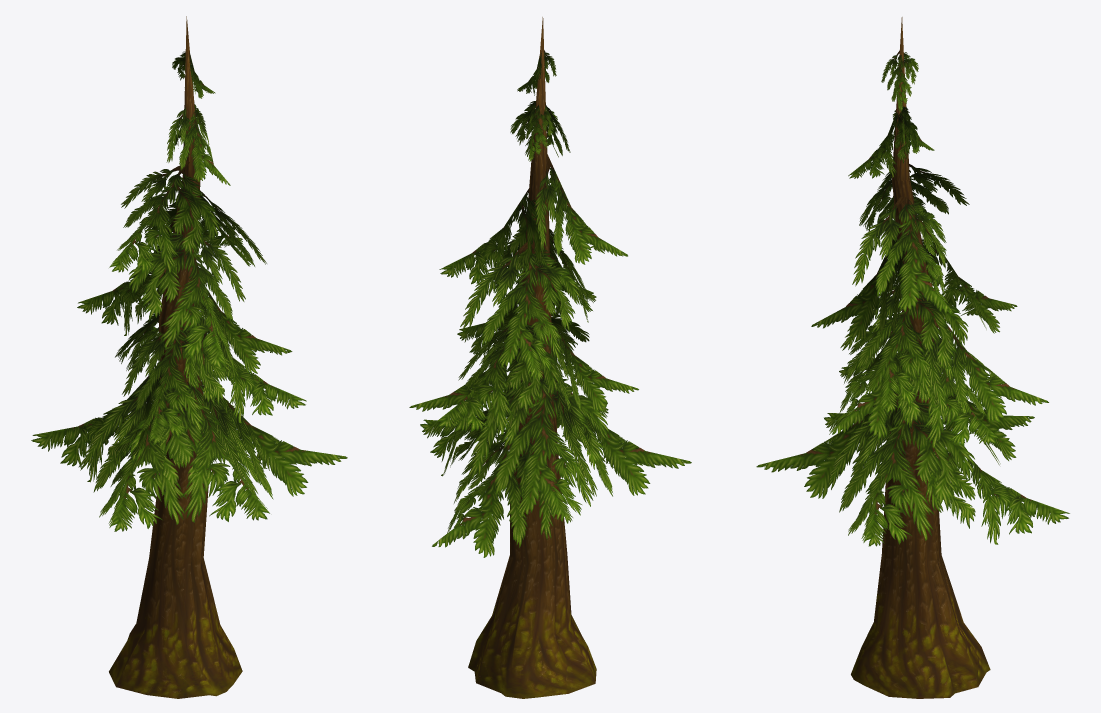
File: pinetree02.fbx
The picture shows the model from 3 angles, left to right: view 1: azimuth 30°, elevation 25°; view 2: azimuth 150°, elevation 25°; view 3: azimuth 270°, elevation 25°; orthographic projection. The views are drawn at different scales.
Visible parts, largest first — view 1: pinetree_2_branches, pinetree_2_trunk; view 2: pinetree_2_branches, pinetree_2_trunk; view 3: pinetree_2_branches, pinetree_2_trunk.
Part boxes in pixels (<box>): pinetree_2_branches: <box>31,51,347,531</box>; pinetree_2_trunk: <box>109,16,242,698</box>; pinetree_2_branches: <box>409,50,691,557</box>; pinetree_2_trunk: <box>468,17,596,698</box>; pinetree_2_branches: <box>756,51,1069,546</box>; pinetree_2_trunk: <box>851,17,990,698</box>.
Bounding box in the file's own units: 10.4 × 23.28 × 11.15.
